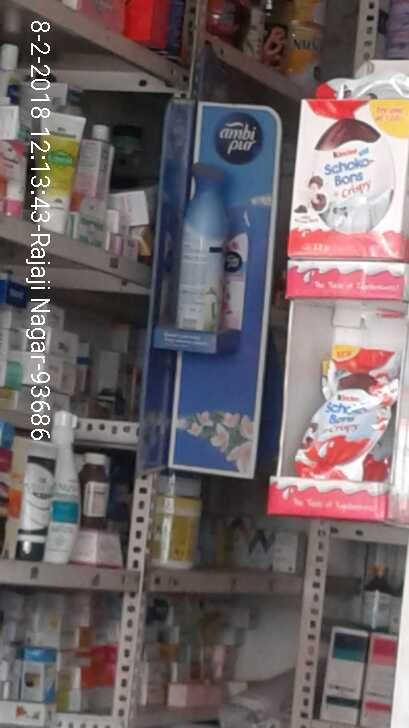home: (176, 153, 222, 329)
